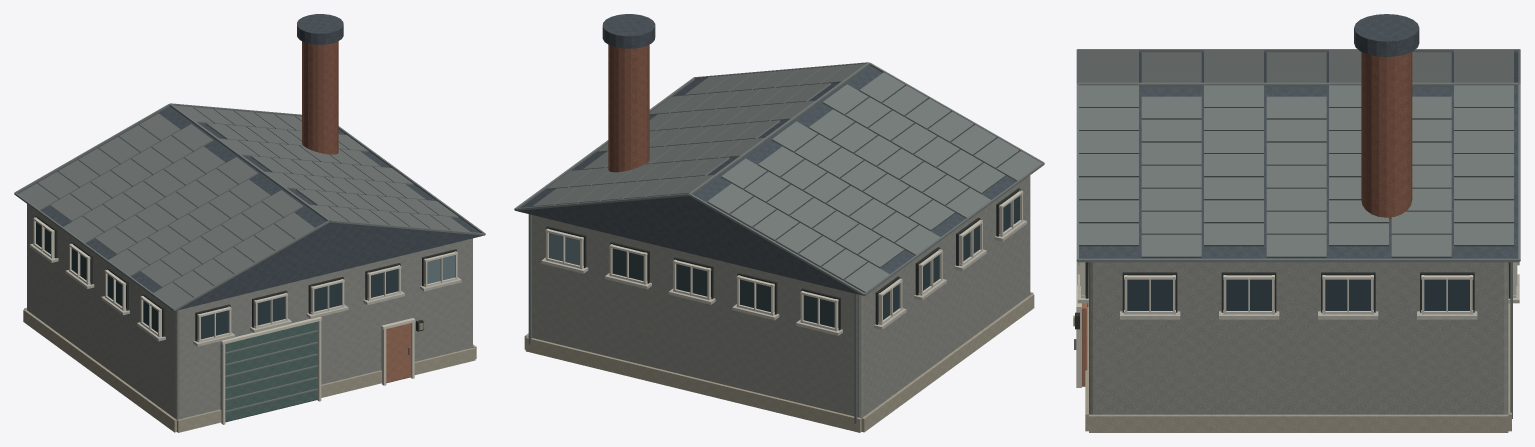
Rendered from IND_LOW_2x2_001.glb.
The picture shows the model from 3 angles, left to right: view 1: azimuth 30°, elevation 25°; view 2: azimuth 150°, elevation 25°; view 3: azimuth 270°, elevation 25°; orthographic projection. The views are drawn at different scales.
Parts seen in each view (by area): view 1: IND_LOW_2x2_001_Visual; view 2: IND_LOW_2x2_001_Visual; view 3: IND_LOW_2x2_001_Visual.
Part boxes in pixels (<box>): IND_LOW_2x2_001_Visual: <box>14,14,485,432</box>; IND_LOW_2x2_001_Visual: <box>514,14,1044,432</box>; IND_LOW_2x2_001_Visual: <box>1073,14,1520,432</box>.
Size of what is drawn, in the model's own units: 3.52 by 2.89 by 3.15.
13 materials, 7 textured.
